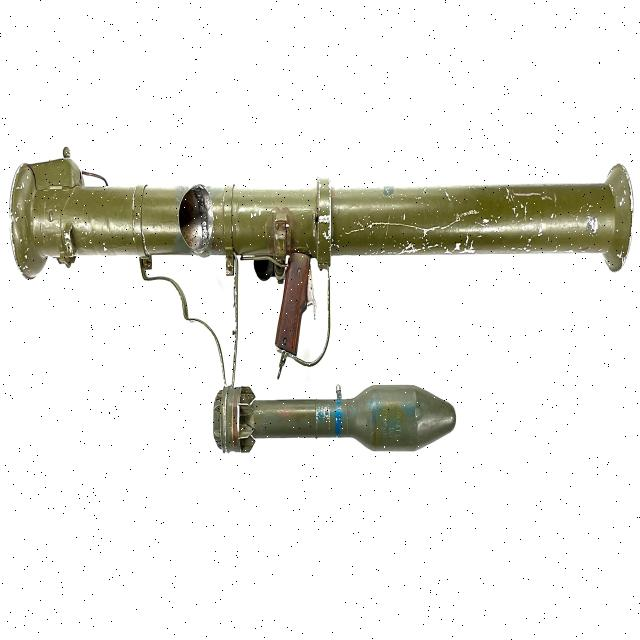bazooka: (6, 136, 640, 369)
